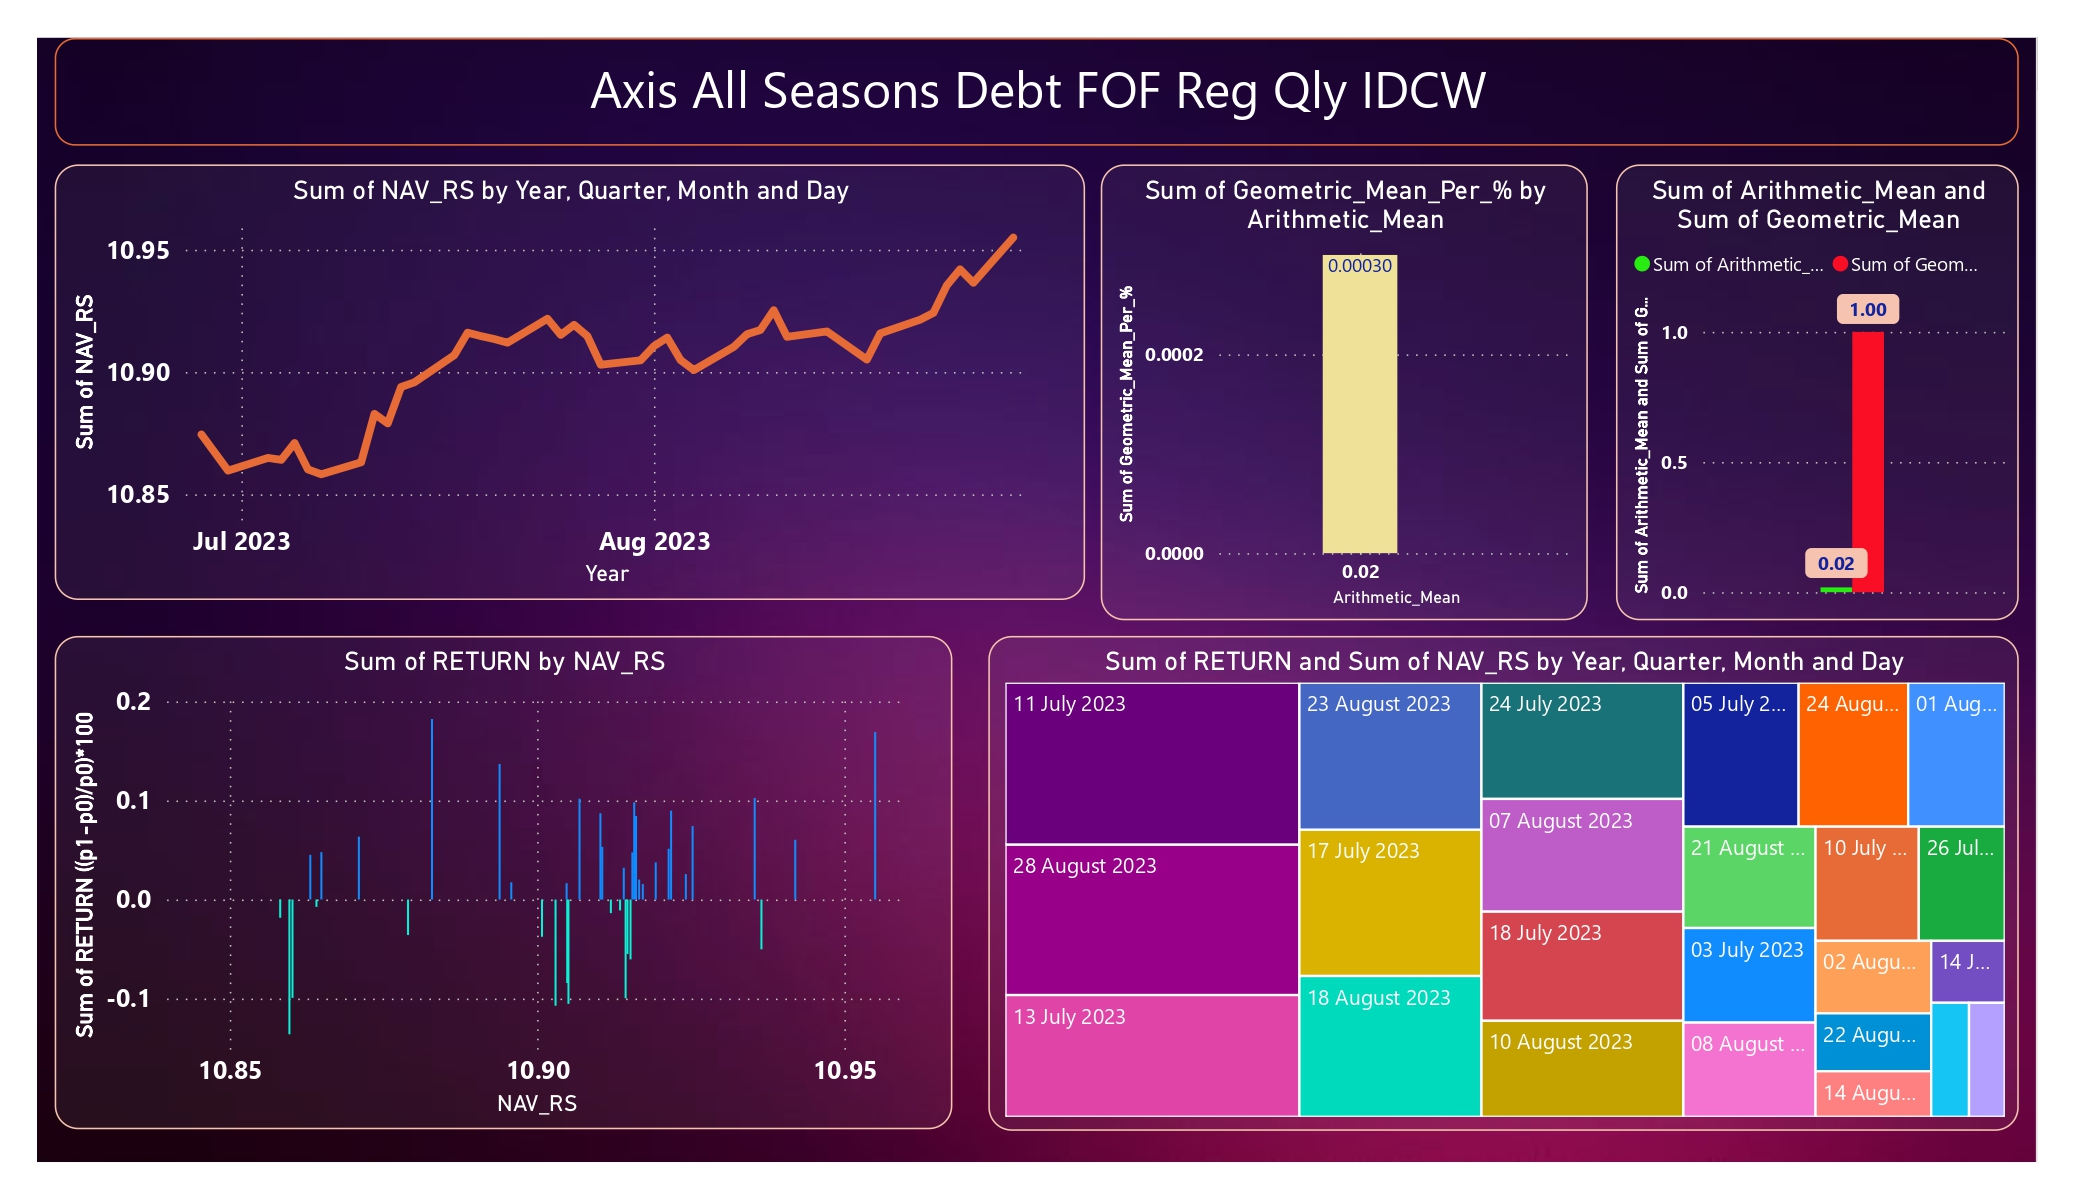

Layout of this report page (visuals, bound fields, positions):
{"tool":"powerbi","page":{"name":"Axis All Seasons Debt FOF Reg Qly IDCW","canvas":[1280,720],"ordinal":2},"visuals":[{"type":"textbox","box":[11.4,0,1257.1,68.6],"z":0},{"type":"lineChart","fields":{"Category":["Axis All Seasons Debt FOF Reg Qly IDCW.NAV_Date.Variation.Date Hierarchy.Year","Axis All Seasons Debt FOF Reg Qly IDCW.NAV_Date.Variation.Date Hierarchy.Quarter","Axis All Seasons Debt FOF Reg Qly IDCW.NAV_Date.Variation.Date Hierarchy.Month","Axis All Seasons Debt FOF Reg Qly IDCW.NAV_Date.Variation.Date Hierarchy.Day"],"Y":["Sum(Axis All Seasons Debt FOF Reg Qly IDCW.NAV_RS)"]},"box":[11.4,81.4,660,278.6],"z":1000},{"type":"treemap","title":"Sum of RETURN and Sum of NAV_RS by Year, Quarter, Month and Day","fields":{"Values":["Sum(Axis All Seasons Debt FOF Reg Qly IDCW.RETURN ((p1-p0)/p0)*100)"],"Details":["Axis All Seasons Debt FOF Reg Qly IDCW.NAV_Date"]},"box":[608.6,382.9,660,317.1],"z":2000},{"type":"clusteredColumnChart","title":"Sum of RETURN by NAV_RS","fields":{"Category":["Axis All Seasons Debt FOF Reg Qly IDCW.NAV_RS"],"Y":["Sum(Axis All Seasons Debt FOF Reg Qly IDCW.RETURN ((p1-p0)/p0)*100)"]},"box":[11.4,382.9,574.3,315.7],"z":3000},{"type":"lineClusteredColumnComboChart","fields":{"Y":["Sum(Axis All Seasons Debt FOF Reg Qly IDCW.Arithmetic_Mean)","Sum(Axis All Seasons Debt FOF Reg Qly IDCW.Geometric_Mean)"]},"box":[1011.4,81.4,257.1,291.4],"z":4000},{"type":"columnChart","fields":{"Y":["Sum(Axis All Seasons Debt FOF Reg Qly IDCW.Geometric_Mean_Per_%)"],"Category":["Axis All Seasons Debt FOF Reg Qly IDCW.Arithmetic_Mean"]},"box":[681.4,81.4,311.4,291.4],"z":5000}]}

Visuals, with their boxes on the page's 1280x720 design canvas (x1, y1, x2, y2). These are canvas units, not pixel positions in the 2075x1200 screenshot, which may show the page scaled, cropped or inside an application window:
textbox: bbox(11, 0, 1268, 69)
lineChart - Axis All Seasons Debt FOF Reg Qly IDCW.NAV_Date.Variation.Date Hierarchy.Year x Axis All Seasons Debt FOF Reg Qly IDCW.NAV_Date.Variation.Date Hierarchy.Quarter: bbox(11, 81, 671, 360)
"Sum of RETURN and Sum of NAV_RS by Year, Quarter, Month and Day" treemap: bbox(609, 383, 1269, 700)
"Sum of RETURN by NAV_RS" clusteredColumnChart: bbox(11, 383, 586, 699)
lineClusteredColumnComboChart - Sum(Axis All Seasons Debt FOF Reg Qly IDCW.Arithmetic_Mean) x Sum(Axis All Seasons Debt FOF Reg Qly IDCW.Geometric_Mean): bbox(1011, 81, 1268, 373)
columnChart - Sum(Axis All Seasons Debt FOF Reg Qly IDCW.Geometric_Mean_Per_%) x Axis All Seasons Debt FOF Reg Qly IDCW.Arithmetic_Mean: bbox(681, 81, 993, 373)
